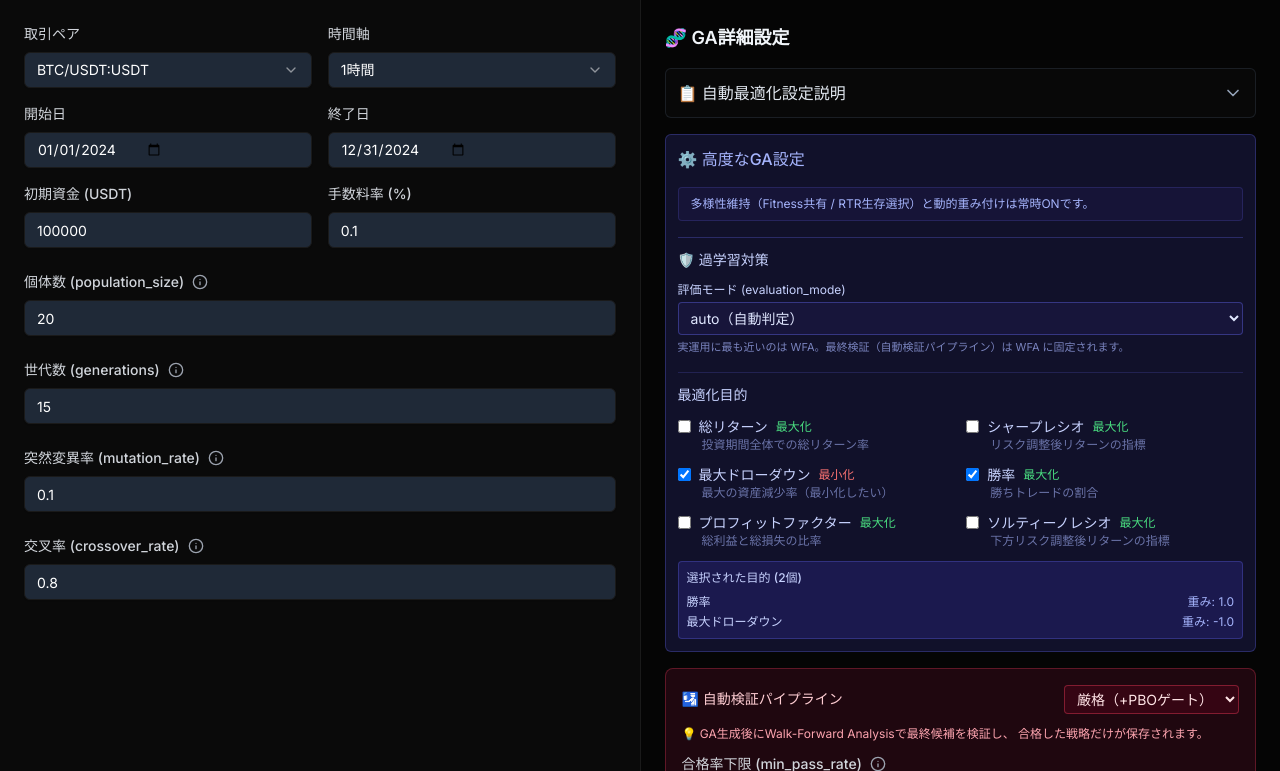
Test: GAConfigForm › Collapsibleをクリックすると説明が表示されること
This screenshot has width=1280, height=771.
Click the button "📋 自動最適化設定説明". click: (960, 93)
box: x1=664 y1=68 x2=1256 y2=118
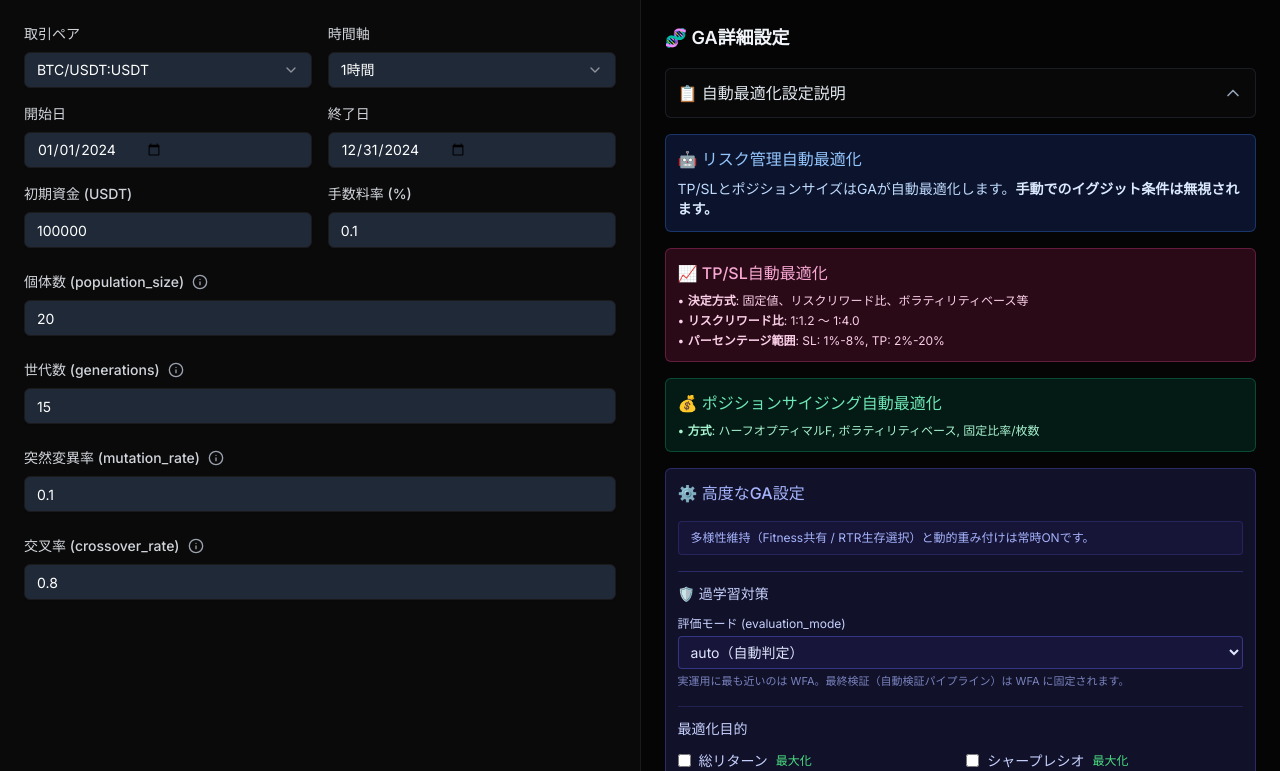
Check: the button "📋 自動最適化設定説明" is expanded, box x1=664 y1=68 x2=1256 y2=118
Check: the text "TP/SLとポジションサイズはGAが自動最適化します。" is shown, box x1=678 y1=180 x2=1015 y2=197
